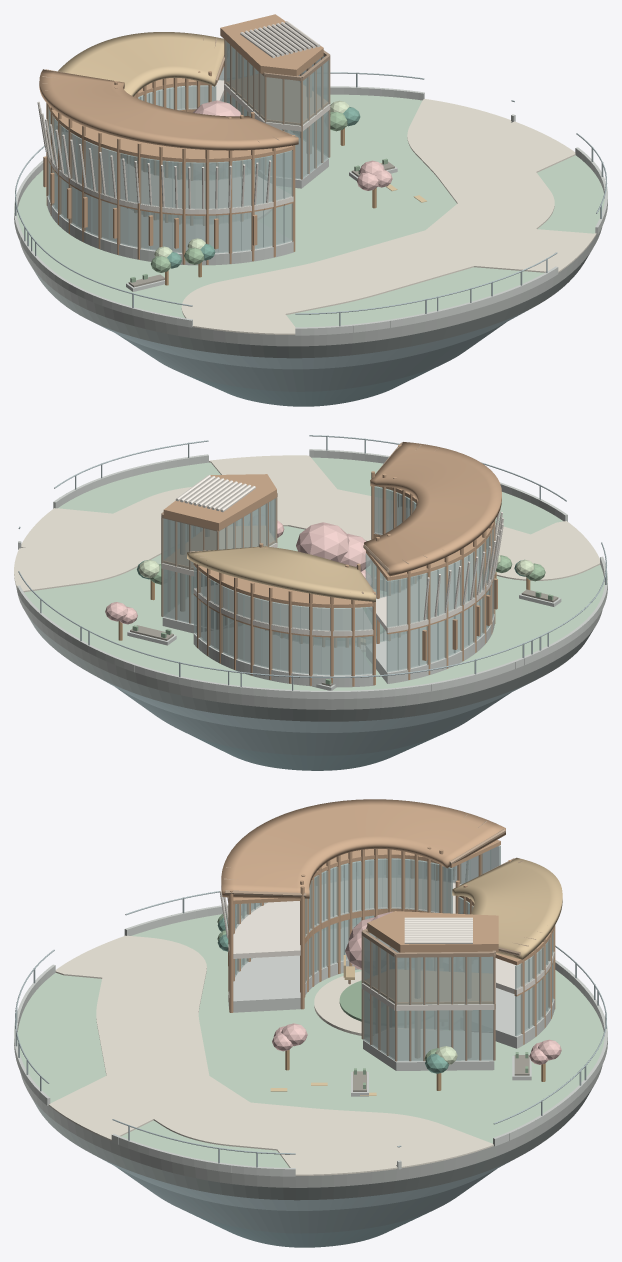
3 views of the same model, one above another, from view 1: azimuth 30°, elevation 25°; view 2: azimuth 150°, elevation 25°; view 3: azimuth 270°, elevation 25° (orthographic). The views are drawn at different scales.
Visible parts, largest first — view 1: ROLE_terrain_Components__grass, ROLE_paving_Components__paveLight, ROLE_building_Components__careGlass, ROLE_building_Components__careRoof, ROLE_roof_Components__careRoof, ROLE_building_Components__careLinen, ROLE_building_Components__stone2, ROLE_roof_Components__warmwood, ROLE_terrain_Components__cliff2, ROLE_terrain_Components__stone2, ROLE_terrain_Components__cliff3, ROLE_rails_Components__stone2 (+7 smaller); view 2: ROLE_terrain_Components__grass, ROLE_building_Components__careGlass, ROLE_paving_Components__paveLight, ROLE_roof_Components__careRoof, ROLE_building_Components__careRoof, ROLE_building_Components__careLinen, ROLE_building_Components__stone2, ROLE_rails_Components__stone2, ROLE_terrain_Components__cliff2, ROLE_terrain_Components__cliff3, ROLE_terrain_Components__stone2, ROLE_roof_Components__warmwood (+9 smaller); view 3: ROLE_terrain_Components__grass, ROLE_paving_Components__paveLight, ROLE_building_Components__careGlass, ROLE_roof_Components__careRoof, ROLE_building_Components__careRoof, ROLE_building_Components__careLinen, ROLE_building_Components__stone2, ROLE_terrain_Components__stone2, ROLE_roof_Components__warmwood, ROLE_terrain_Components__cliff3, ROLE_terrain_Components__cliff2, ROLE_rails_Components__stone2 (+8 smaller).
Part boxes in pixels (x1=…): ROLE_terrain_Components__grass: x1=17, y1=94, x2=604, y2=327; ROLE_paving_Components__paveLight: x1=181, y1=99, x2=596, y2=334; ROLE_building_Components__careGlass: x1=47, y1=40, x2=329, y2=253; ROLE_building_Components__careRoof: x1=43, y1=63, x2=328, y2=264; ROLE_roof_Components__careRoof: x1=39, y1=14, x2=323, y2=150; ROLE_building_Components__careLinen: x1=37, y1=21, x2=330, y2=214; ROLE_building_Components__stone2: x1=47, y1=129, x2=328, y2=265; ROLE_roof_Components__warmwood: x1=58, y1=32, x2=224, y2=96; ROLE_terrain_Components__cliff2: x1=117, y1=322, x2=505, y2=391; ROLE_terrain_Components__stone2: x1=19, y1=227, x2=602, y2=346; ROLE_terrain_Components__cliff3: x1=31, y1=252, x2=590, y2=358; ROLE_rails_Components__stone2: x1=14, y1=86, x2=607, y2=335; ROLE_terrain_Components__grass: x1=24, y1=457, x2=604, y2=690; ROLE_building_Components__careGlass: x1=162, y1=486, x2=494, y2=675; ROLE_paving_Components__paveLight: x1=14, y1=455, x2=600, y2=651; ROLE_roof_Components__careRoof: x1=163, y1=442, x2=501, y2=576; ROLE_building_Components__careRoof: x1=163, y1=444, x2=497, y2=686; ROLE_building_Components__careLinen: x1=161, y1=475, x2=503, y2=636; ROLE_building_Components__stone2: x1=162, y1=578, x2=494, y2=687; ROLE_rails_Components__stone2: x1=17, y1=449, x2=607, y2=699; ROLE_terrain_Components__cliff2: x1=115, y1=687, x2=510, y2=755; ROLE_terrain_Components__cliff3: x1=26, y1=614, x2=593, y2=721; ROLE_terrain_Components__stone2: x1=16, y1=586, x2=602, y2=709; ROLE_roof_Components__warmwood: x1=187, y1=546, x2=375, y2=601; ROLE_terrain_Components__grass: x1=17, y1=911, x2=604, y2=1167; ROLE_paving_Components__paveLight: x1=48, y1=935, x2=493, y2=1175; ROLE_building_Components__careGlass: x1=229, y1=845, x2=553, y2=1061; ROLE_roof_Components__careRoof: x1=221, y1=799, x2=505, y2=952; ROLE_building_Components__careRoof: x1=228, y1=840, x2=555, y2=1044; ROLE_building_Components__careLinen: x1=219, y1=860, x2=554, y2=1010; ROLE_building_Components__stone2: x1=228, y1=926, x2=554, y2=1070; ROLE_terrain_Components__stone2: x1=20, y1=1065, x2=602, y2=1187; ROLE_roof_Components__warmwood: x1=452, y1=857, x2=562, y2=959; ROLE_terrain_Components__cliff3: x1=30, y1=1086, x2=593, y2=1200; ROLE_terrain_Components__cliff2: x1=115, y1=1166, x2=496, y2=1233; ROLE_rails_Components__stone2: x1=14, y1=903, x2=607, y2=1176.
Size of the model in its own units: 29.84 by 15.15 by 27.84.
